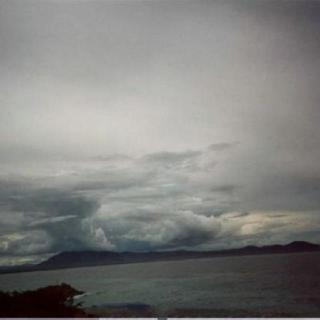Stratocumulus: (0, 0, 320, 262)
